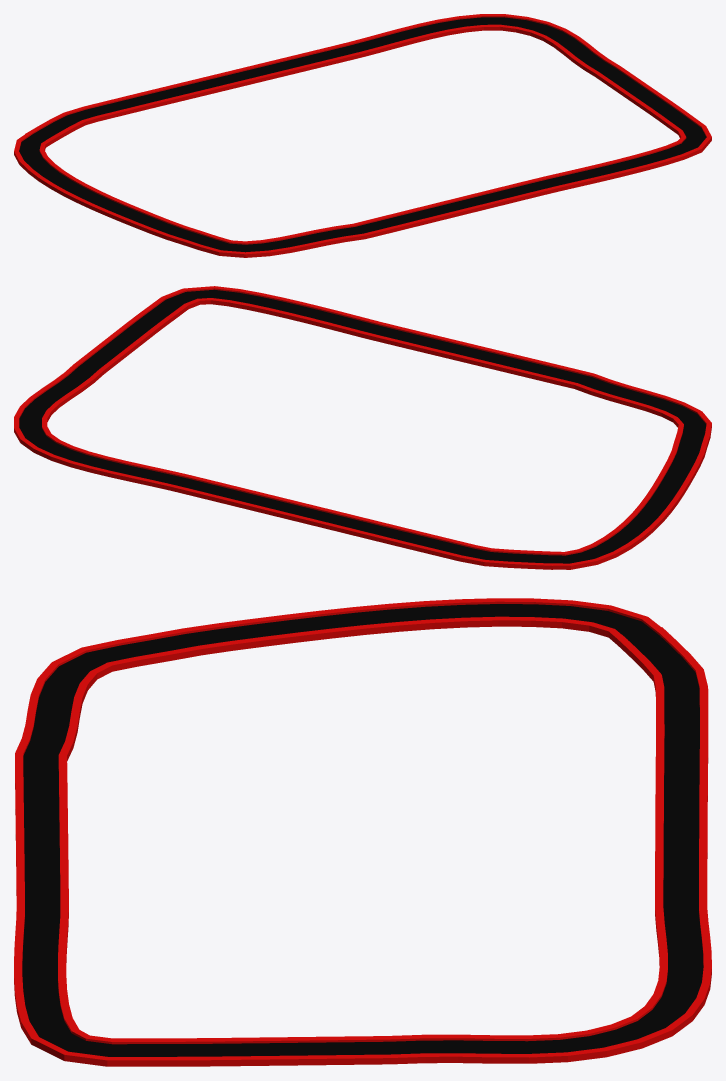
The model's file is track.dae.
The picture shows the model from 3 angles, top to bottom: view 1: azimuth 30°, elevation 25°; view 2: azimuth 150°, elevation 25°; view 3: azimuth 270°, elevation 25°; orthographic projection. The views are drawn at different scales.
Visible parts, largest first — view 1: road; view 2: road; view 3: road.
Part boxes in pixels (x1,y1,x2,y2): road: [14, 14, 711, 257]; road: [14, 286, 711, 569]; road: [14, 598, 711, 1066].
Bounding box in the file's own units: 62.69 × 40.01 × 0.4.
